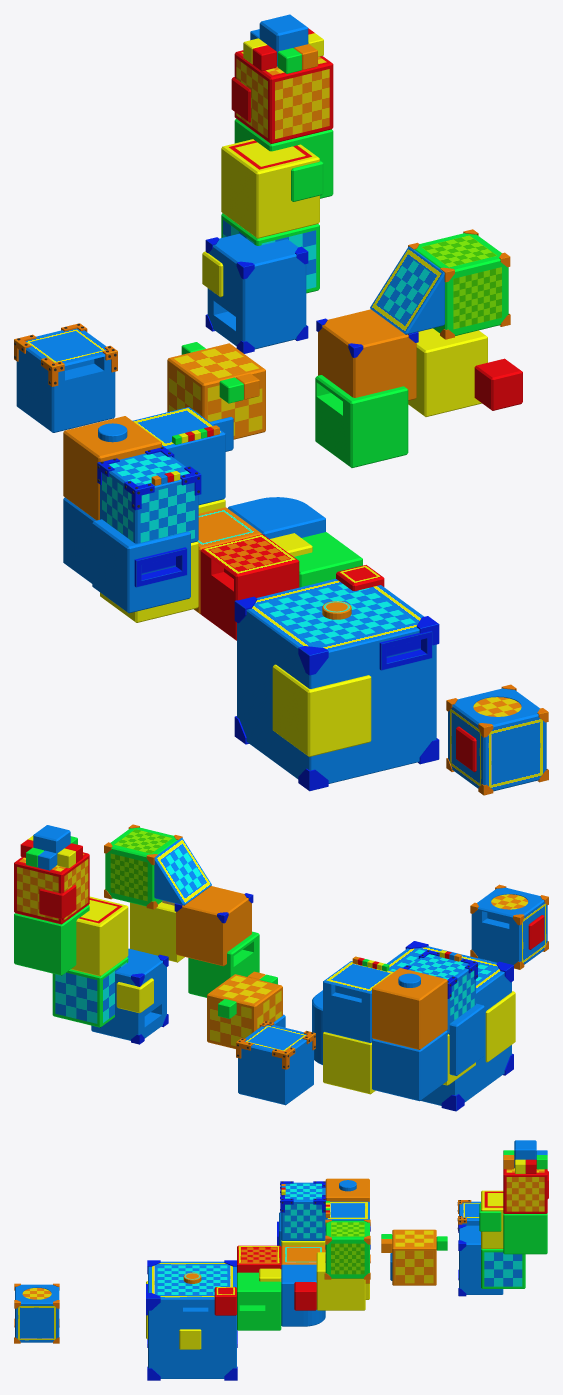
Rendered from cubeWicthTexture.fbx.
3 views of the same model, one above another, from view 1: azimuth 30°, elevation 25°; view 2: azimuth 150°, elevation 25°; view 3: azimuth 270°, elevation 25° (orthographic). The views are drawn at different scales.
Parts seen in each view (by area): view 1: Spring Conveyor Planet; view 2: Spring Conveyor Planet; view 3: Spring Conveyor Planet.
Boxes of the visible parts, bbox=[...] form: Spring Conveyor Planet: bbox=[14, 14, 548, 795]; Spring Conveyor Planet: bbox=[14, 824, 548, 1111]; Spring Conveyor Planet: bbox=[14, 1140, 548, 1380].
Bounding box in the file's own units: 660 × 702 × 1205.
16 materials, 16 textured.
